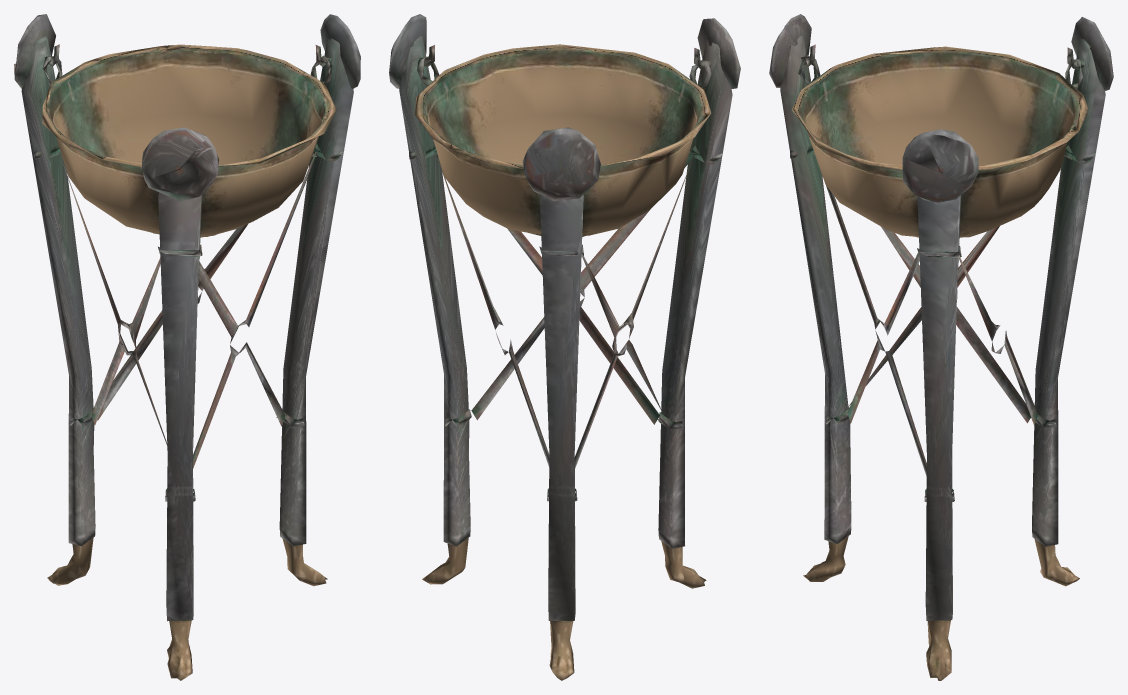
The model's file is brazier.lod0.glb.
3 views of the same model, side by side, from view 1: azimuth 30°, elevation 25°; view 2: azimuth 150°, elevation 25°; view 3: azimuth 270°, elevation 25° (orthographic).
Visible parts, largest first — view 1: Roman_Brazier_LOW_DefaultMaterial_0; view 2: Roman_Brazier_LOW_DefaultMaterial_0; view 3: Roman_Brazier_LOW_DefaultMaterial_0.
Boxes of the visible parts, box(x1,y1,x2,y2) form: Roman_Brazier_LOW_DefaultMaterial_0: box(14, 14, 360, 680); Roman_Brazier_LOW_DefaultMaterial_0: box(389, 14, 740, 680); Roman_Brazier_LOW_DefaultMaterial_0: box(769, 14, 1113, 680).
Size of the model in its own units: 0.7638 by 1.4 by 0.7818.
1 material, 1 textured.
